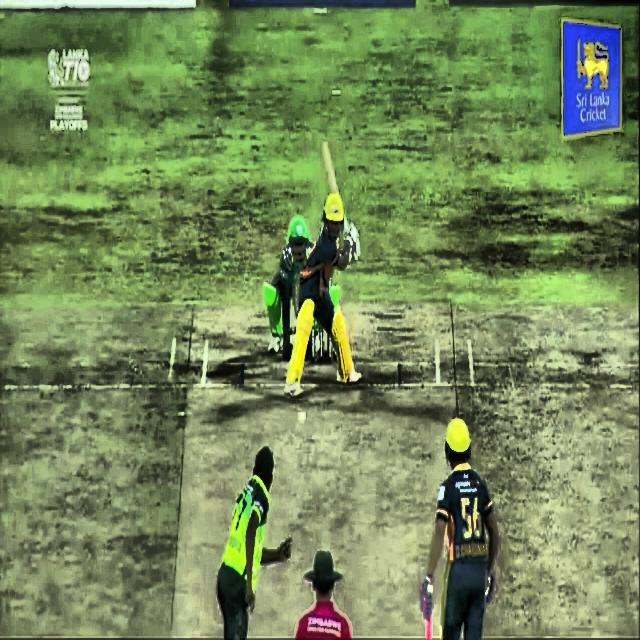Left-stump: (312, 334, 315, 364)
Middle-stump: (318, 316, 324, 364)
Right-stump: (328, 328, 333, 364)
